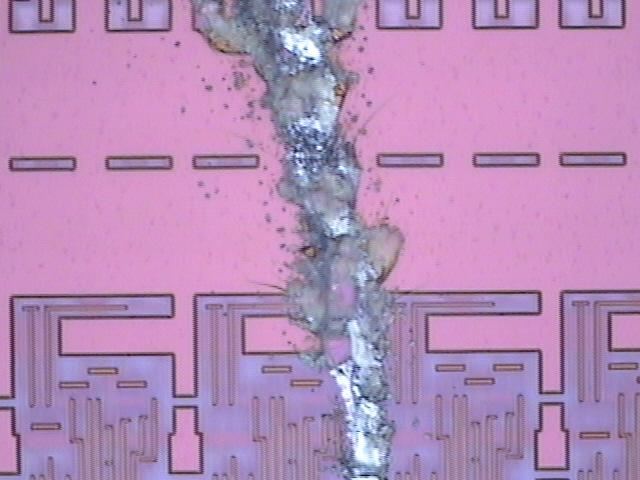SCRATCH: (178, 1, 414, 480)
